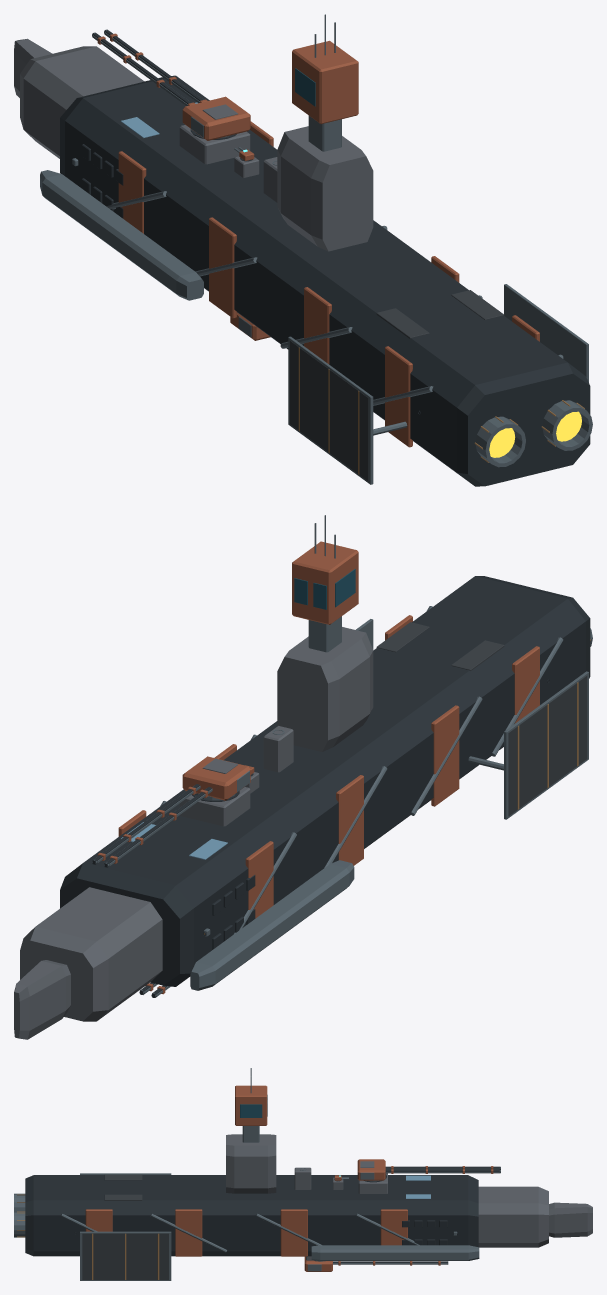
Rendered from mars_gun_cruiser_t4.glb.
The picture shows the model from 3 angles, top to bottom: view 1: azimuth 30°, elevation 25°; view 2: azimuth 150°, elevation 25°; view 3: azimuth 270°, elevation 25°; orthographic projection. The views are drawn at different scales.
Visible parts, largest first — view 1: FleetHull, mesh_turret_gun_1, mesh_recoil_gun_1; view 2: FleetHull, mesh_turret_gun_1, mesh_recoil_gun_1; view 3: FleetHull, mesh_recoil_gun_1, mesh_turret_gun_1, mesh_recoil_gun_2, mesh_turret_gun_2.
Boxes of the visible parts, box(x1,y1,x2,y2) form: FleetHull: box(14, 14, 592, 486); mesh_turret_gun_1: box(182, 96, 250, 140); mesh_recoil_gun_1: box(92, 29, 207, 105); FleetHull: box(14, 515, 592, 1039); mesh_turret_gun_1: box(182, 756, 250, 800); mesh_recoil_gun_1: box(92, 784, 212, 867); FleetHull: box(14, 1068, 592, 1280); mesh_recoil_gun_1: box(385, 1166, 500, 1173); mesh_turret_gun_1: box(357, 1159, 385, 1181); mesh_recoil_gun_2: box(333, 1261, 448, 1265); mesh_turret_gun_2: box(304, 1256, 332, 1271).
Size of the model in its own units: 67.16 by 105 by 277.
